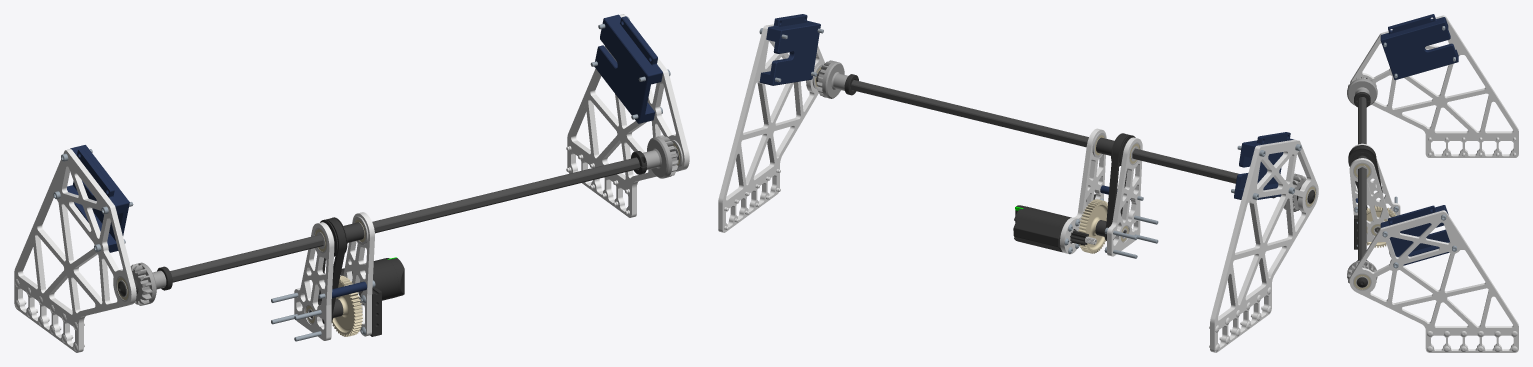
3 views of the same model, side by side, from view 1: azimuth 30°, elevation 25°; view 2: azimuth 150°, elevation 25°; view 3: azimuth 270°, elevation 25° (orthographic). The views are drawn at different scales.
Visible parts, largest first — view 1: Intake 001 (×2), 1/2" Rounded Hex (REV) (27.5 in), 26INT-0010, Intake 002, Spur 2.5400000000000005M 16T (×2), 26INT-0009, Intake 003, Kraken X44 Brushless Motor, 50t Pocketed Aluminum Spur Gear (20 DP, 1/2" Hex Bore), 60t 5mm Belt; view 2: Intake 001 (×2), 1/2" Rounded Hex (REV) (27.5 in), 26INT-0010, Intake 002, Kraken X44 Brushless Motor, Intake 003, 26INT-0009, 50t Pocketed Aluminum Spur Gear (20 DP, 1/2" Hex Bore), Spur 2.5400000000000005M 16T, 60t 5mm Belt; view 3: Intake 001 (×2), 26INT-0009, 26INT-0010, 1/2" Rounded Hex (REV) (27.5 in), Intake 003, Spur 2.5400000000000005M 16T (×2), Intake 002, 1/2" Hex Bore Bearing (1.125" OD, 0.313" WD, Shielded, Flang (×2), 24t Aluminum Pulley (HTD 5mm, 9mm Wide, 1/2" Hex Bore), 50t Pocketed Aluminum Spur Gear (20 DP, 1/2" Hex Bore), 60t 5mm Belt, 1/2" Hex Clamping Shaft Collar.
Boxes of the visible parts, left/top/right/bottom form: Intake 001 (×2): left=14, top=14, right=689, bottom=352; 1/2" Rounded Hex (REV) (27.5 in): left=170, top=157, right=639, bottom=282; 26INT-0010: left=594, top=14, right=662, bottom=123; Intake 002: left=294, top=222, right=334, bottom=340; Spur 2.5400000000000005M 16T (×2): left=130, top=135, right=678, bottom=305; 26INT-0009: left=67, top=145, right=129, bottom=252; Intake 003: left=324, top=212, right=374, bottom=336; Kraken X44 Brushless Motor: left=340, top=257, right=404, bottom=305; 50t Pocketed Aluminum Spur Gear (20 DP, 1/2" Hex Bore): left=331, top=275, right=362, bottom=336; 60t 5mm Belt: left=318, top=218, right=346, bottom=323; Intake 001 (×2): left=718, top=24, right=1318, bottom=352; 1/2" Rounded Hex (REV) (27.5 in): left=851, top=80, right=1239, bottom=183; 26INT-0010: left=759, top=14, right=820, bottom=85; Intake 002: left=1107, top=137, right=1142, bottom=256; Kraken X44 Brushless Motor: left=1013, top=205, right=1096, bottom=252; Intake 003: left=1060, top=128, right=1106, bottom=254; 26INT-0009: left=1234, top=132, right=1293, bottom=199; 50t Pocketed Aluminum Spur Gear (20 DP, 1/2" Hex Bore): left=1078, top=199, right=1107, bottom=253; Spur 2.5400000000000005M 16T: left=816, top=60, right=848, bottom=98; 60t 5mm Belt: left=1105, top=133, right=1130, bottom=239; Intake 001 (×2): left=1349, top=15, right=1518, bottom=352; 26INT-0009: left=1380, top=14, right=1458, bottom=80; 26INT-0010: left=1380, top=205, right=1449, bottom=265; 1/2" Rounded Hex (REV) (27.5 in): left=1358, top=97, right=1366, bottom=259; Intake 003: left=1349, top=158, right=1390, bottom=242; Spur 2.5400000000000005M 16T (×2): left=1347, top=76, right=1377, bottom=283; Intake 002: left=1351, top=143, right=1400, bottom=215; 1/2" Hex Bore Bearing (1.125" OD, 0.313" WD, Shielded, Flang (×2): left=1353, top=162, right=1371, bottom=290; 24t Aluminum Pulley (HTD 5mm, 9mm Wide, 1/2" Hex Bore): left=1348, top=145, right=1376, bottom=166; 50t Pocketed Aluminum Spur Gear (20 DP, 1/2" Hex Bore): left=1366, top=205, right=1396, bottom=247; 60t 5mm Belt: left=1348, top=146, right=1382, bottom=209; 1/2" Hex Clamping Shaft Collar: left=1354, top=92, right=1370, bottom=107.
Bounding box in the file's own units: 0.7082 × 0.2527 × 0.2578.
